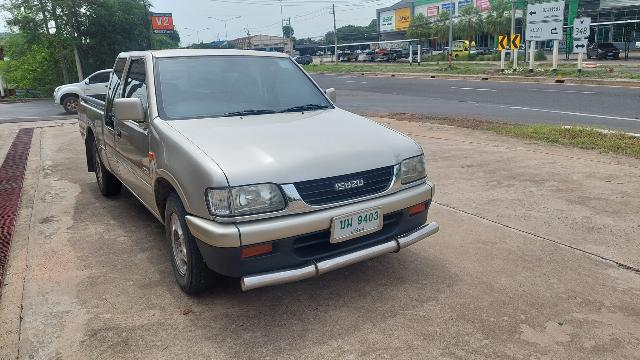pickup-truck: (73, 36, 449, 308)
